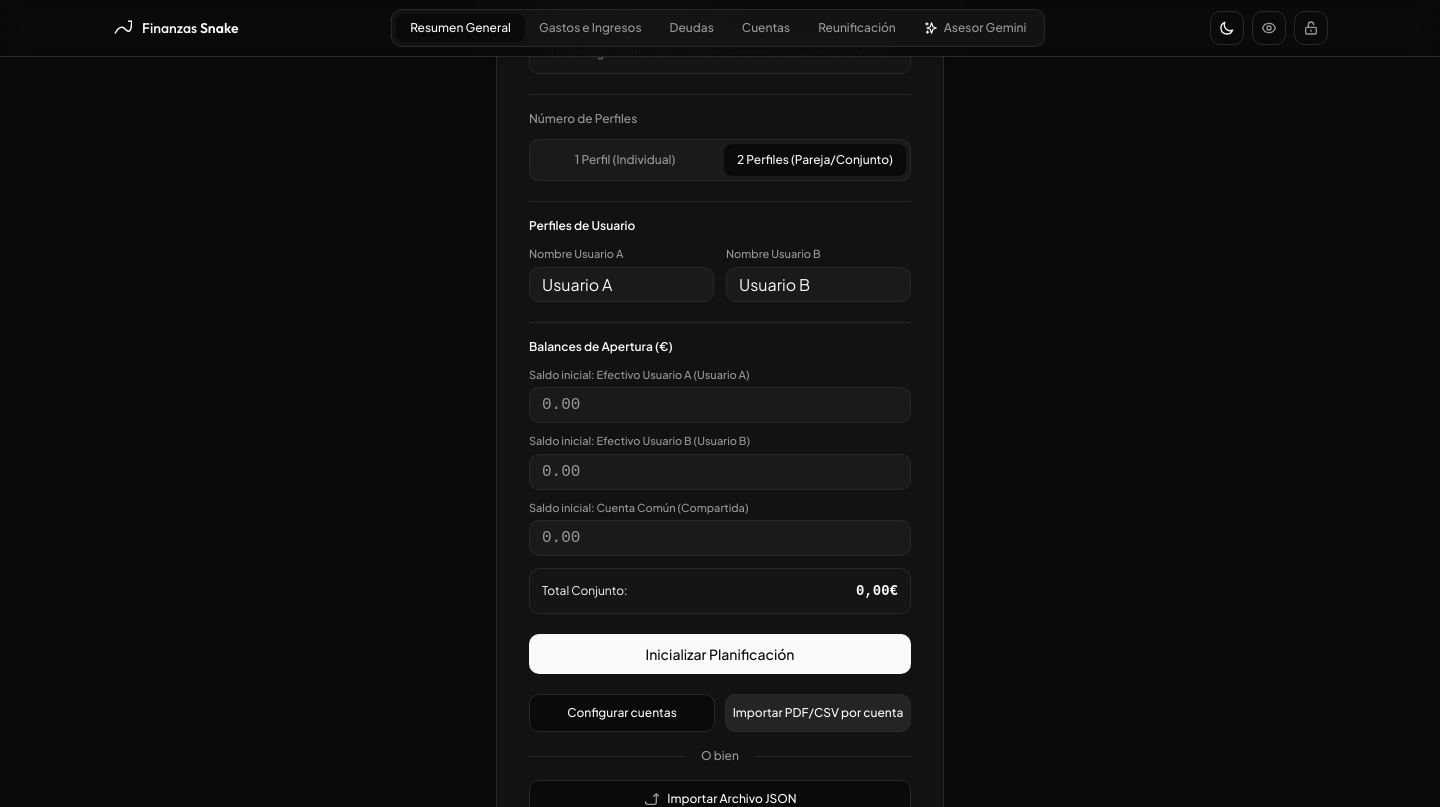
Scenario: onboarding inicial › debe inicializar saldos vacíos en cero y abrir la configuración de cuentas
(page scrolled)
Click the button "Configurar cuentas" at x=622, y=713, box [529,694,715,732]
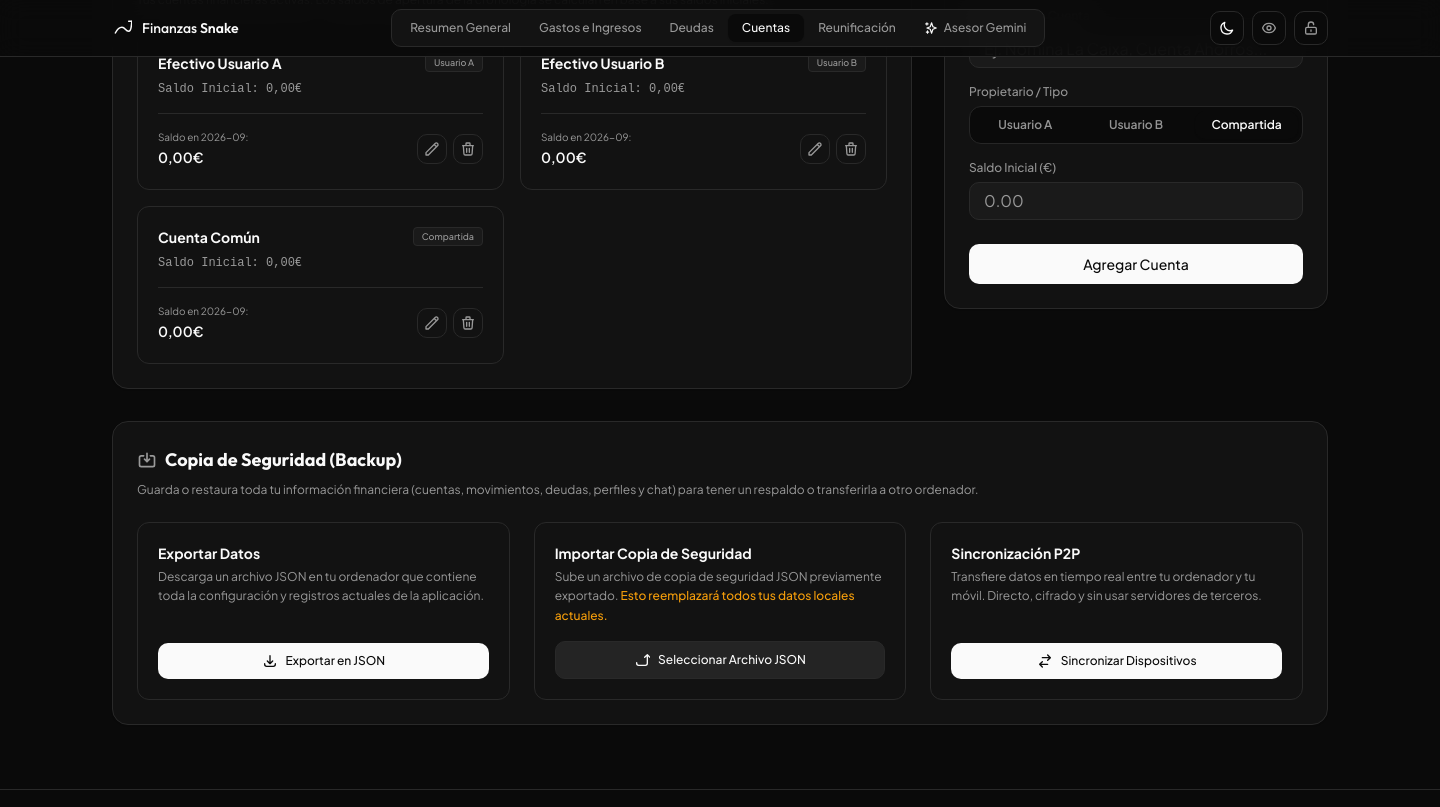
Check: the text "Saldo Inicial: 0,00€" below "Efectivo Usuario A" is shown, box [158,82,302,96]
